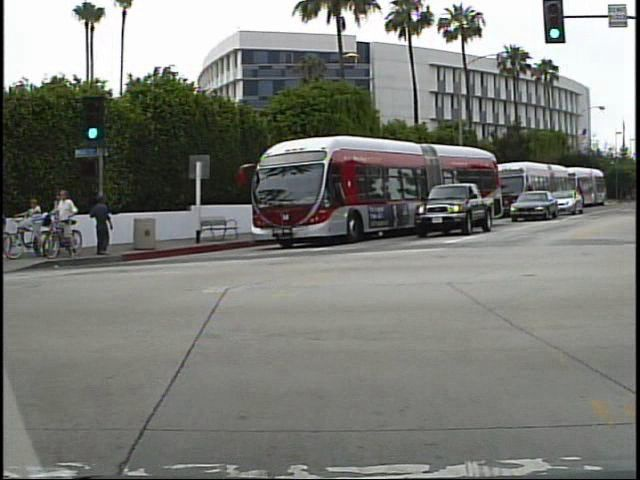person: (50, 187, 82, 257)
